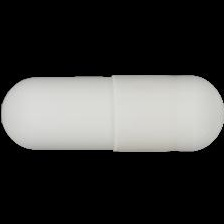60505-3849: (0, 0, 224, 224)
